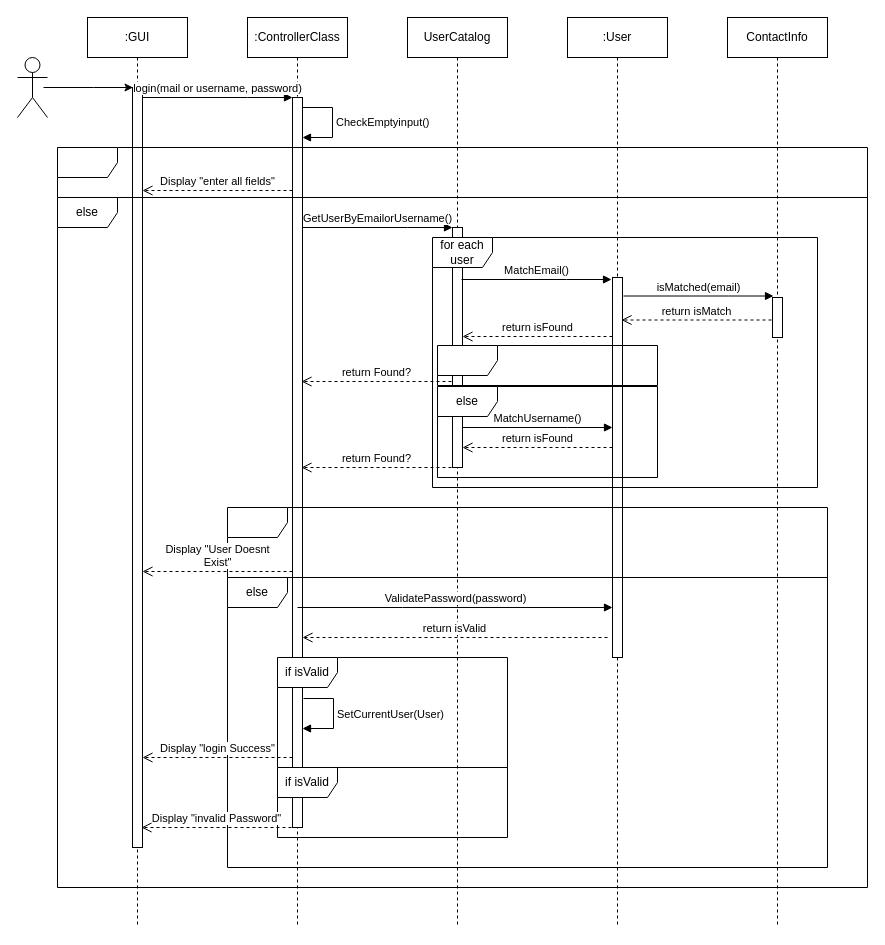
The diagram is 885 pixels wide and 945 high, and some of its shapes have lost their labels. The shapes that lost their labels are listed below. From the top down, each one's centre as x and y in pixels, then its label:
At (x=32, y=87): "User".
At (x=462, y=172): "if any field empty".
At (x=547, y=365): "if isfound".
At (x=527, y=542): "if notFound".
